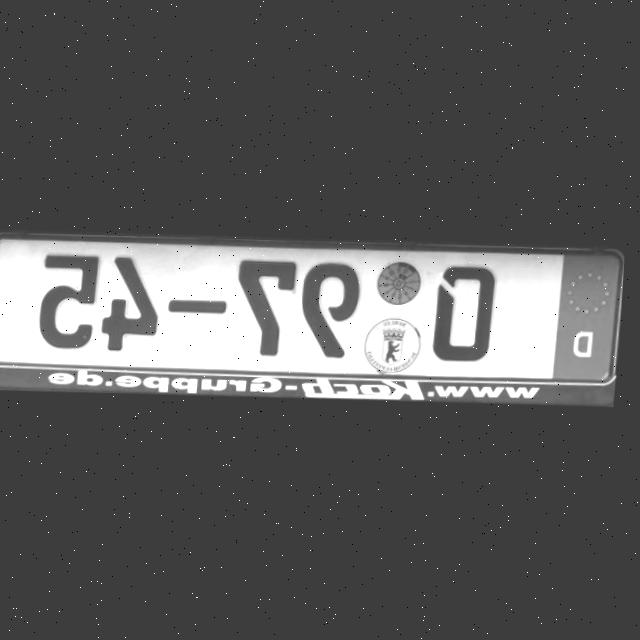license-plates: (0, 236, 622, 383)
